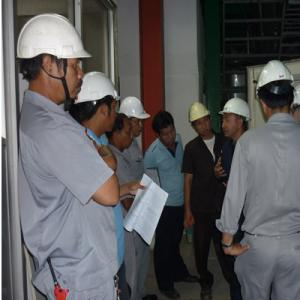none: (107, 113, 136, 150), (153, 111, 179, 147)
white: (21, 14, 87, 105), (78, 73, 118, 135), (257, 61, 296, 120), (219, 98, 251, 140), (122, 97, 147, 136)
yellow: (189, 102, 213, 139)
